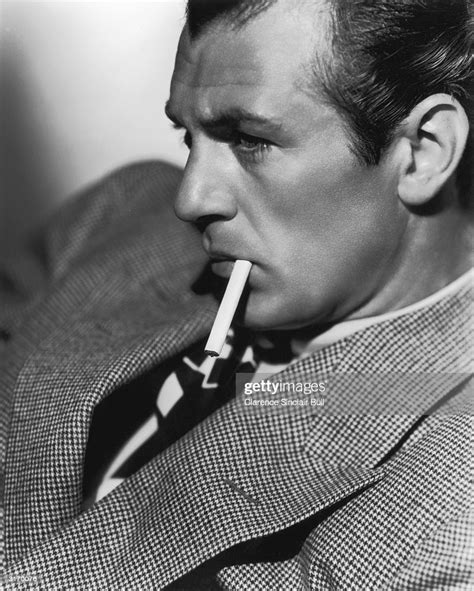cigarette: (199, 254, 253, 359)
